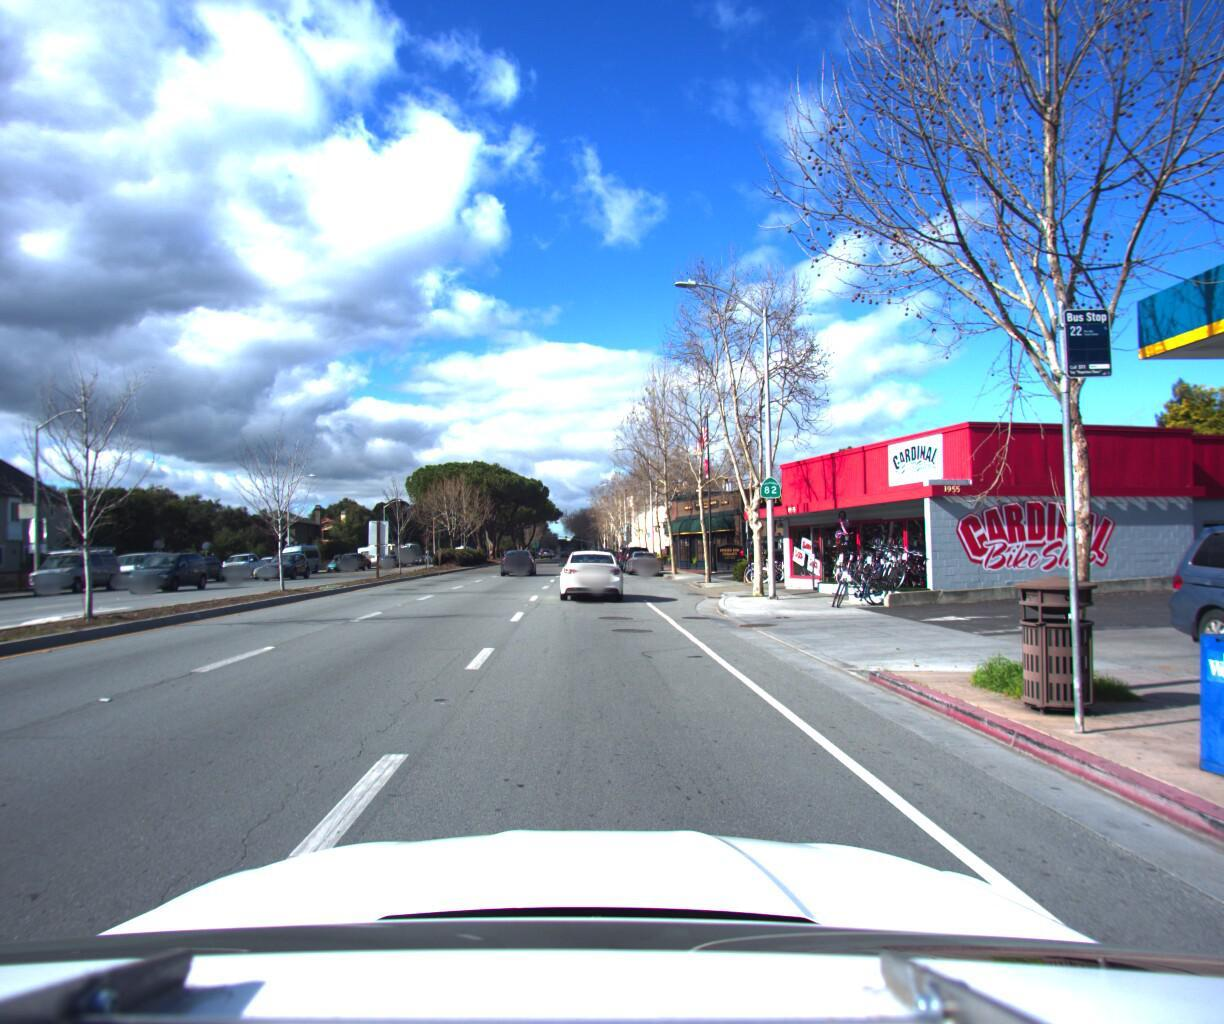bicycle: (837, 551, 892, 604), (832, 551, 886, 603), (874, 535, 928, 587), (871, 535, 924, 586), (869, 534, 922, 584), (862, 534, 914, 584), (859, 534, 911, 583), (856, 535, 907, 584), (853, 535, 903, 583)
car: (1137, 492, 1224, 738), (22, 539, 127, 588), (122, 544, 216, 588), (101, 541, 188, 585), (559, 539, 624, 596), (276, 534, 326, 569), (216, 545, 273, 575), (261, 544, 317, 575), (499, 538, 537, 567), (627, 543, 663, 571), (334, 546, 368, 566)
